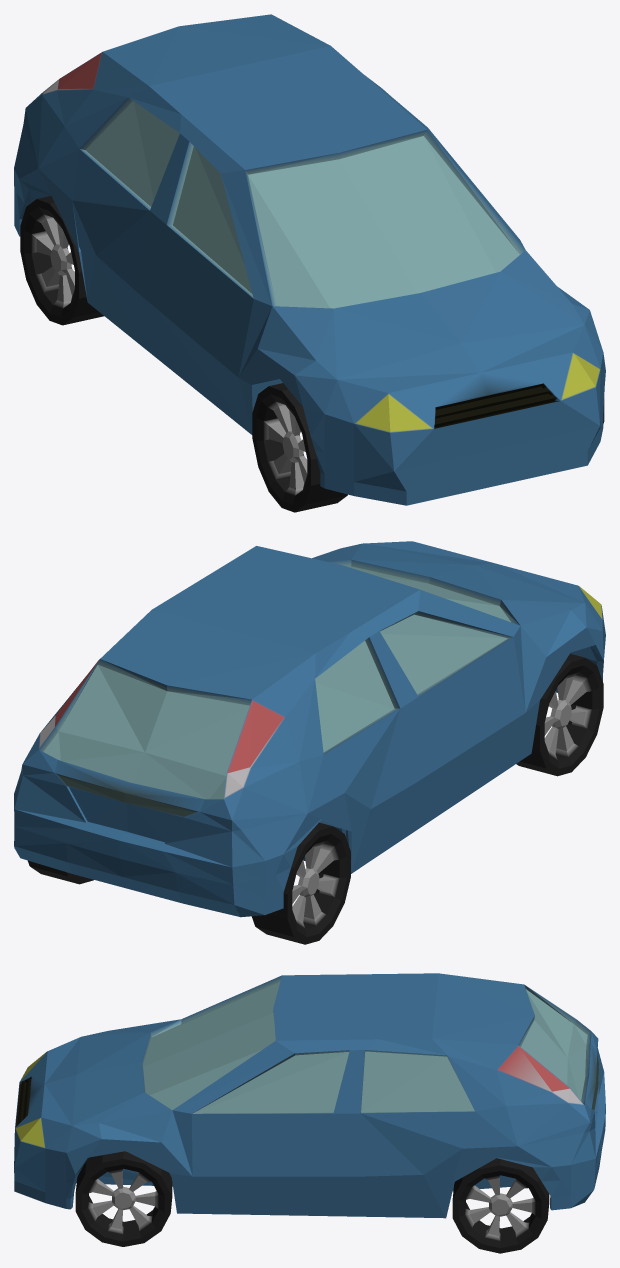
The model's file is car_base.glb.
3 renders of one model, top to bottom at view 1: azimuth 30°, elevation 25°; view 2: azimuth 150°, elevation 25°; view 3: azimuth 270°, elevation 25°, orthographic. The views are drawn at different scales.
Visible parts, largest first — view 1: Car_Base; view 2: Car_Base; view 3: Car_Base.
Boxes of the visible parts, left/top/right/bottom form: Car_Base: left=14, top=14, right=605, bottom=512; Car_Base: left=14, top=541, right=605, bottom=944; Car_Base: left=14, top=973, right=605, bottom=1253.
Size of the model in its own units: 0.829 by 0.6565 by 1.82.
